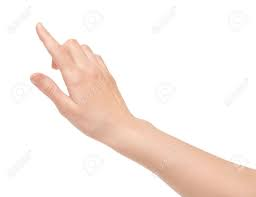hand: (20, 14, 146, 159)
